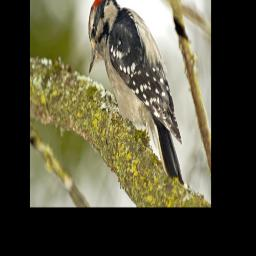Woodpecker: (88, 0, 192, 192)
